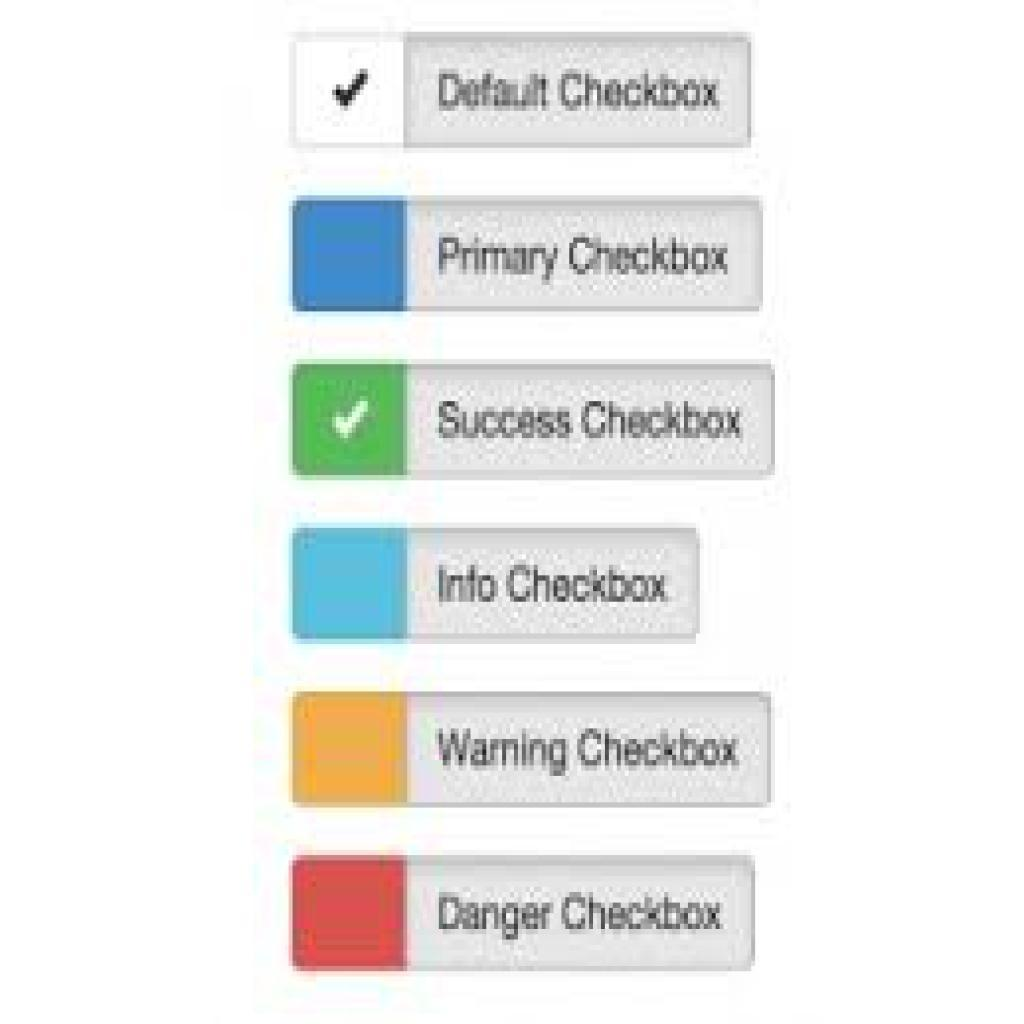button: (410, 692, 773, 808), (407, 855, 760, 974), (411, 197, 763, 311), (409, 366, 777, 474), (404, 32, 751, 145), (407, 530, 699, 638)
checkbox: (295, 367, 408, 477), (296, 37, 407, 148)
